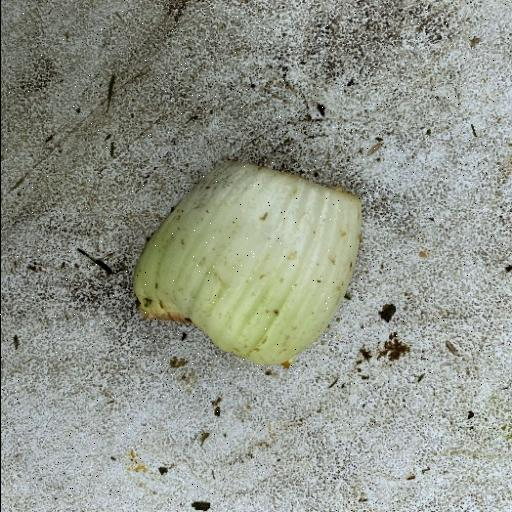Waste: (130, 158, 364, 368)
